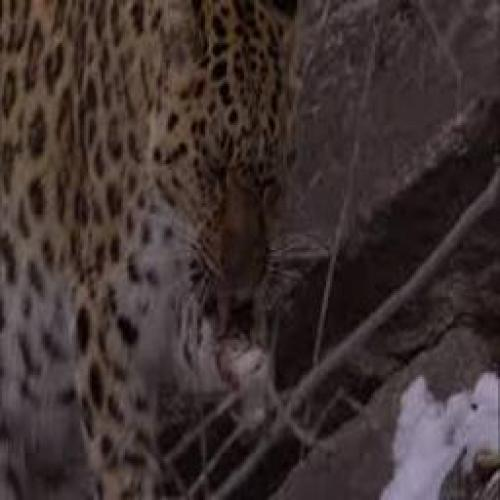amur_leopard-endangered: (0, 0, 306, 500)
